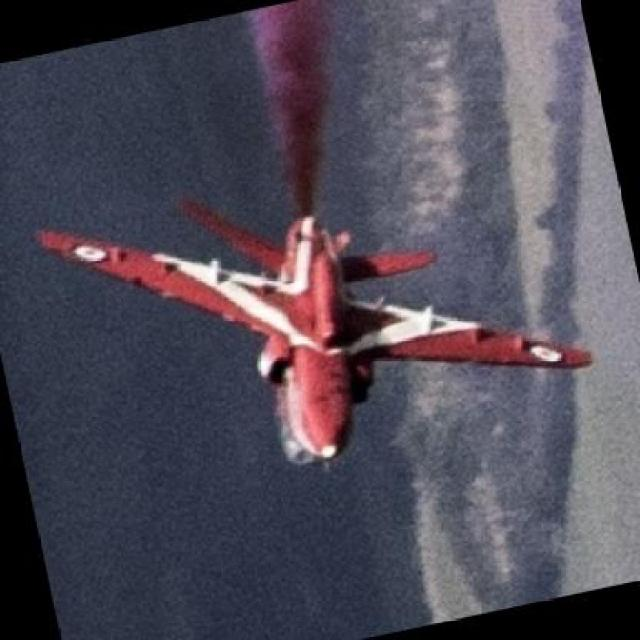iha: (21, 13, 602, 530)
